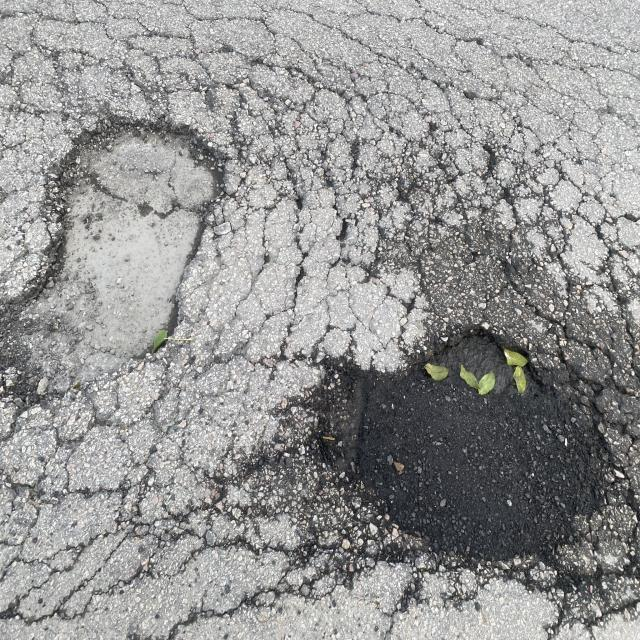pothole: (291, 256, 640, 581), (13, 78, 261, 448)
